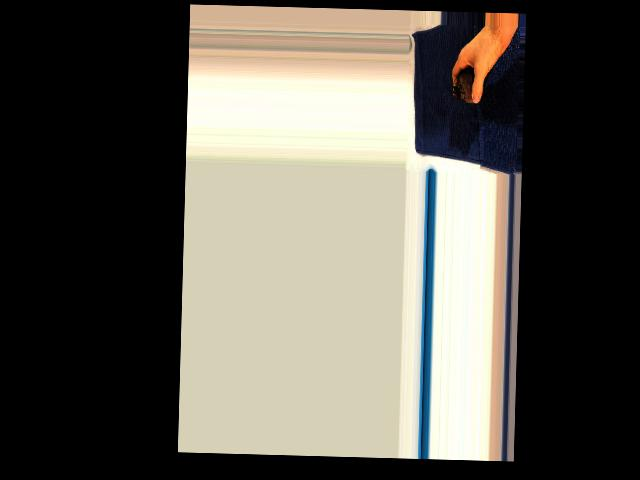beet: (452, 67, 497, 104)
